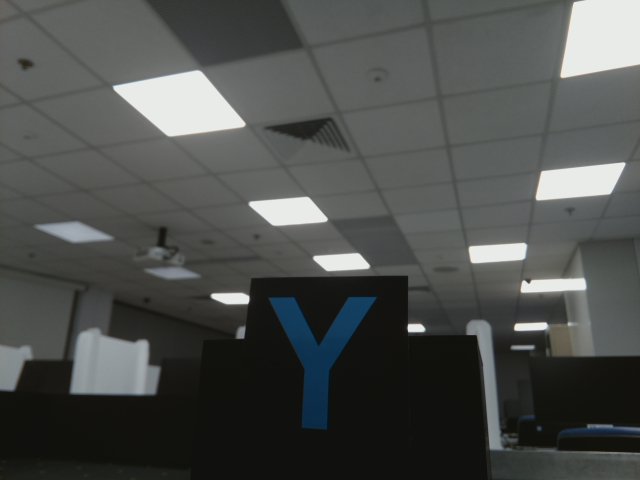y: (266, 288, 387, 439)
